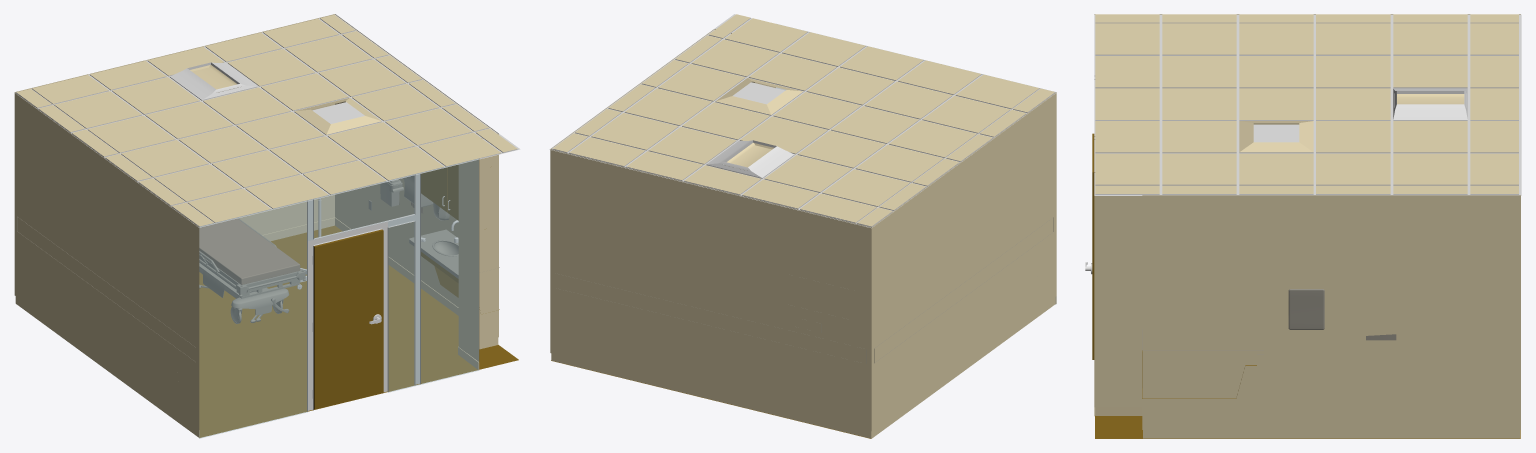
File: ER_Room_Scene.fbx
3 renders of one model, left to right at view 1: azimuth 30°, elevation 25°; view 2: azimuth 150°, elevation 25°; view 3: azimuth 270°, elevation 25°, orthographic. The views are drawn at different scales.
Visible parts, largest first — view 1: Walls, Ceiling, Glass, Floor, Door_Entrance, Matress, Sink, Board (×2), Frame, Bottom, Sharps_Container; view 2: Walls, Ceiling; view 3: Walls, Ceiling, Base, Floor, Door_Entrance.
Part boxes in pixels (x1,y1,x2,y2): Walls: (14,14,498,437); Ceiling: (15,14,520,227); Glass: (199,159,478,438); Floor: (199,225,518,437); Door_Entrance: (314,229,383,409); Matress: (199,219,300,284); Sink: (409,220,499,309); Board (×2): (421,165,458,220); Frame: (199,254,305,298); Bottom: (199,268,289,322); Sharps_Container: (380,179,403,206); Walls: (550,29,1056,438); Ceiling: (549,14,1055,228); Walls: (1094,14,1520,438); Ceiling: (1094,14,1521,195); Base: (1288,289,1324,329); Floor: (1095,415,1520,438); Door_Entrance: (1085,133,1094,359).
Bounding box in the file's own units: 433 × 280 × 440.
